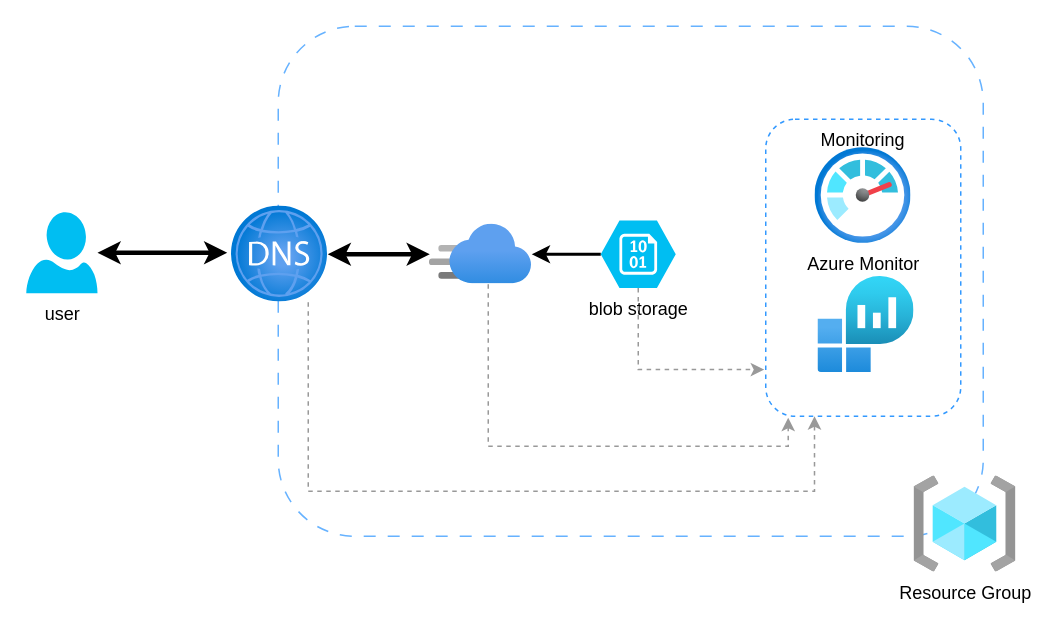
This 1056x630 diagram has some shape labels left out. The centre of each missing label's shape, as x and y in pixels:
"Azure CDN" goes at point 480,254.
"Log Analytics" goes at point 866,324.
